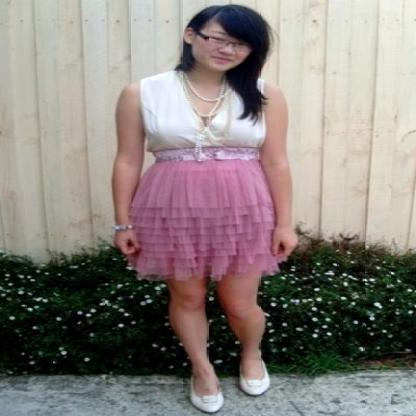dress: (112, 72, 281, 289)
shoe: (192, 375, 270, 411)
